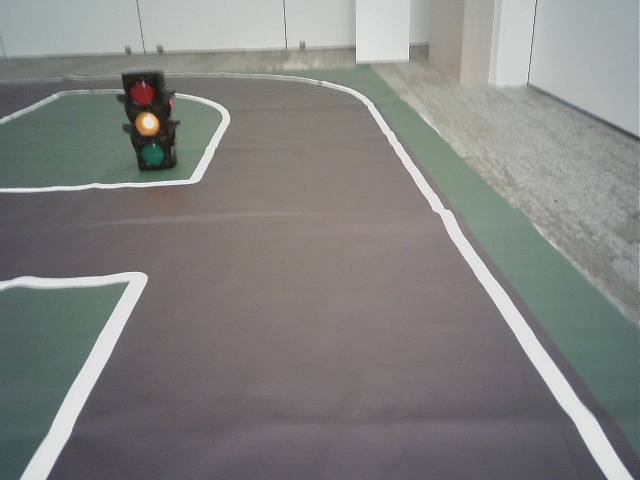yellow: (124, 77, 168, 165)
